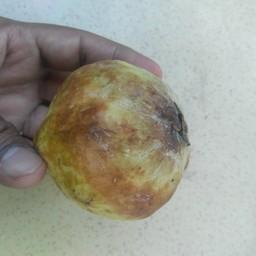Bad_guava: (36, 56, 194, 224)
